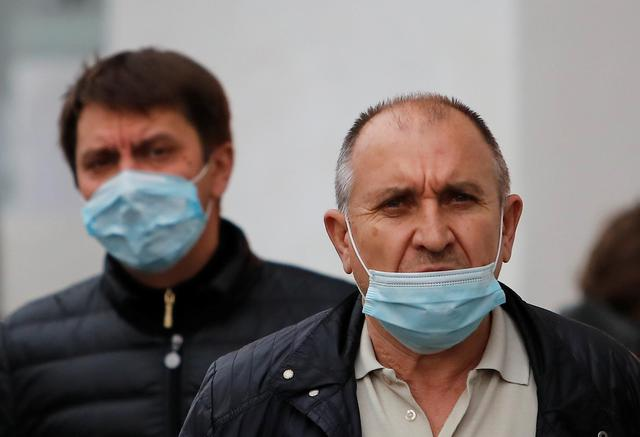mask: (333, 176, 519, 335), (67, 107, 208, 277)
